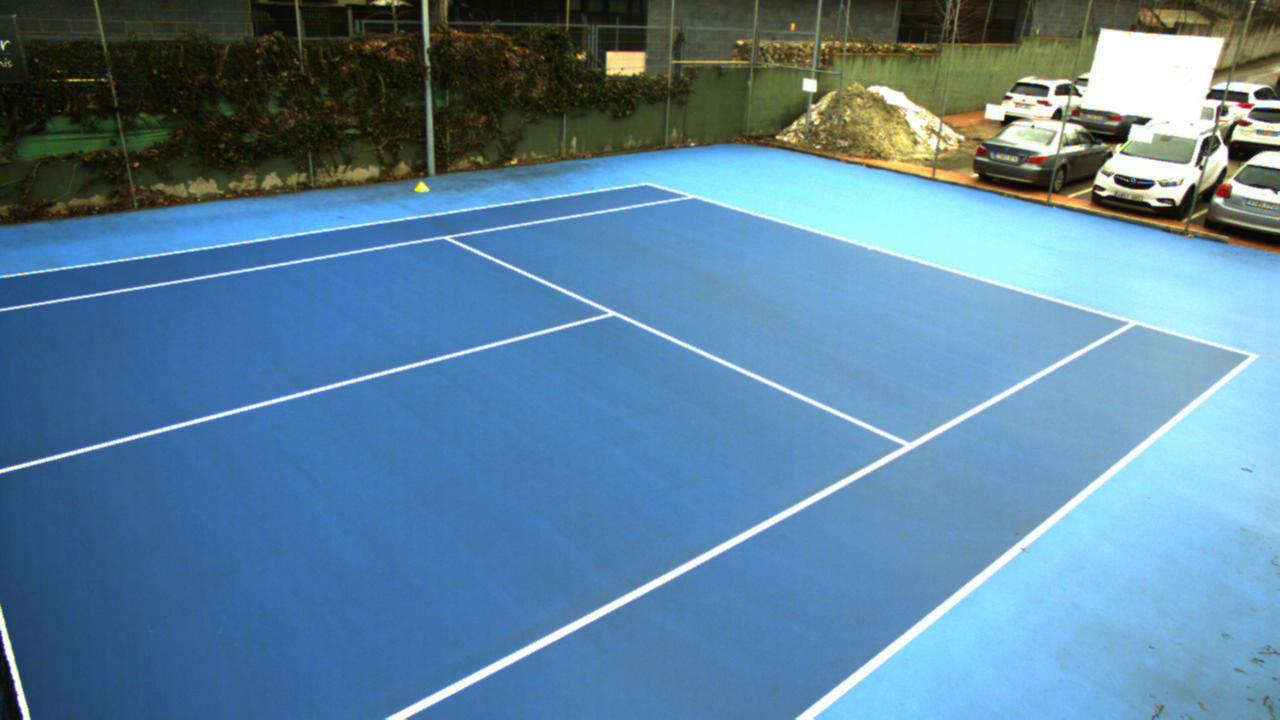cancha_tenis: (0, 194, 1133, 720)
point_f1: (675, 186, 699, 210)
point_f2: (1115, 311, 1145, 336)
point_fc1: (860, 240, 877, 262)
point_i1: (437, 227, 461, 249)
point_i2: (887, 429, 921, 460)
point_ic1: (594, 300, 628, 326)
